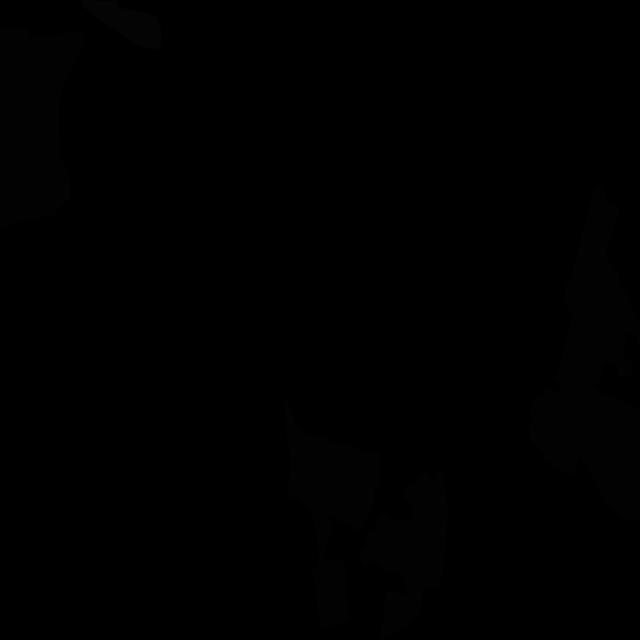cardboard: (285, 396, 380, 630), (0, 27, 86, 228), (555, 185, 640, 385), (528, 380, 640, 523), (358, 470, 448, 639)
soft_plastic: (81, 0, 162, 49)
